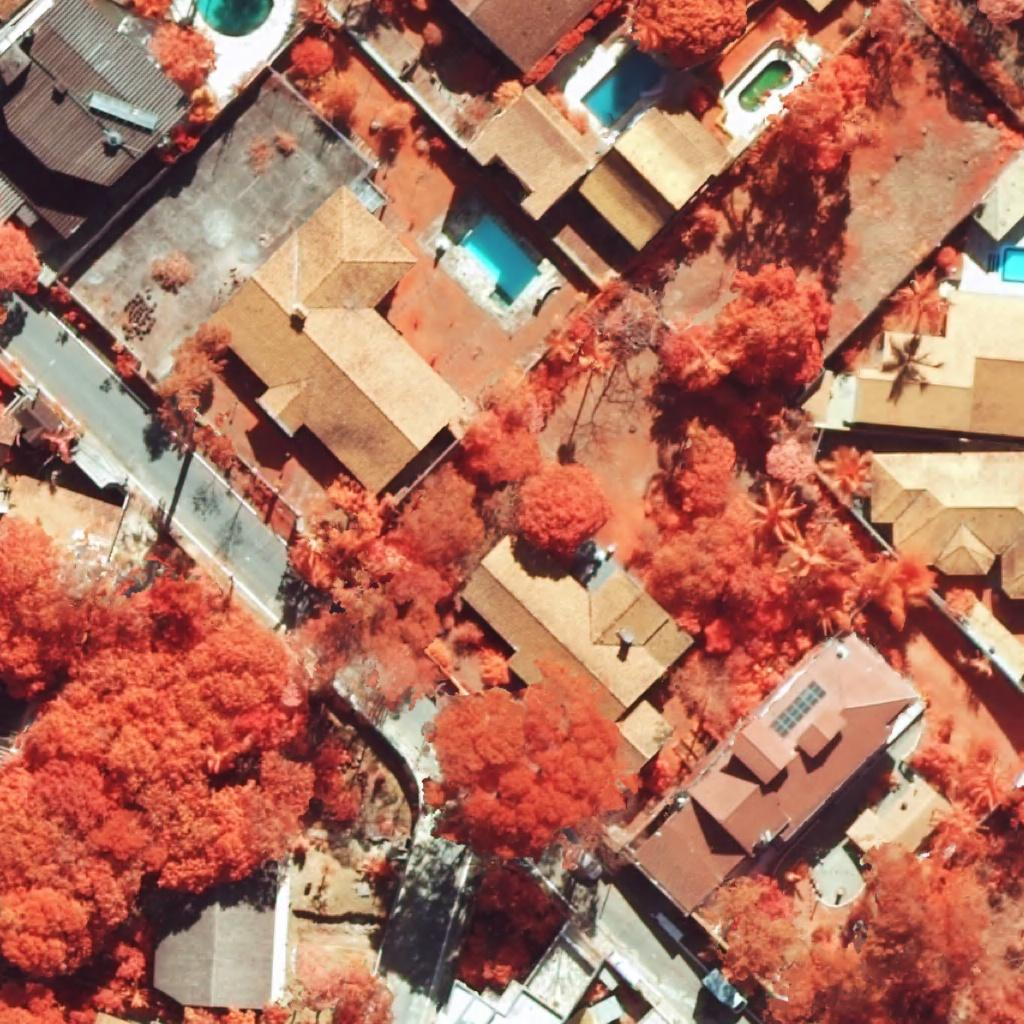pool: (460, 217, 539, 306), (580, 46, 662, 129), (193, 0, 274, 37), (738, 61, 792, 112), (1002, 248, 1024, 283)
